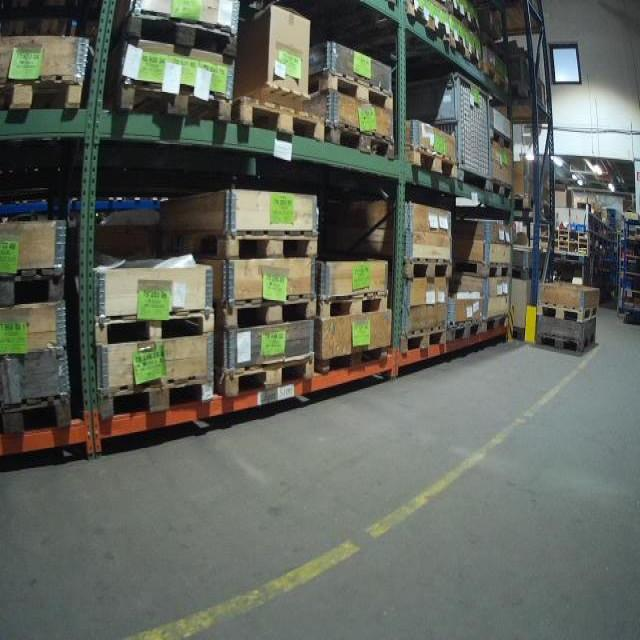pallet: (100, 375, 215, 423), (118, 15, 241, 59), (110, 78, 232, 122), (160, 229, 320, 262), (95, 305, 215, 348), (217, 352, 318, 400), (233, 94, 327, 141), (216, 292, 317, 332), (307, 69, 394, 110), (2, 392, 76, 436), (0, 77, 84, 113), (1, 268, 65, 310), (325, 122, 396, 159), (318, 288, 390, 323), (405, 2, 452, 48), (318, 345, 389, 375), (404, 144, 460, 180), (537, 331, 597, 355), (401, 324, 447, 354), (403, 255, 456, 280), (535, 301, 598, 322), (456, 258, 514, 280), (450, 37, 482, 69), (448, 316, 482, 344), (482, 63, 507, 91), (483, 310, 509, 336), (489, 127, 514, 150), (487, 178, 515, 198)
stillage: (392, 66, 493, 199)
